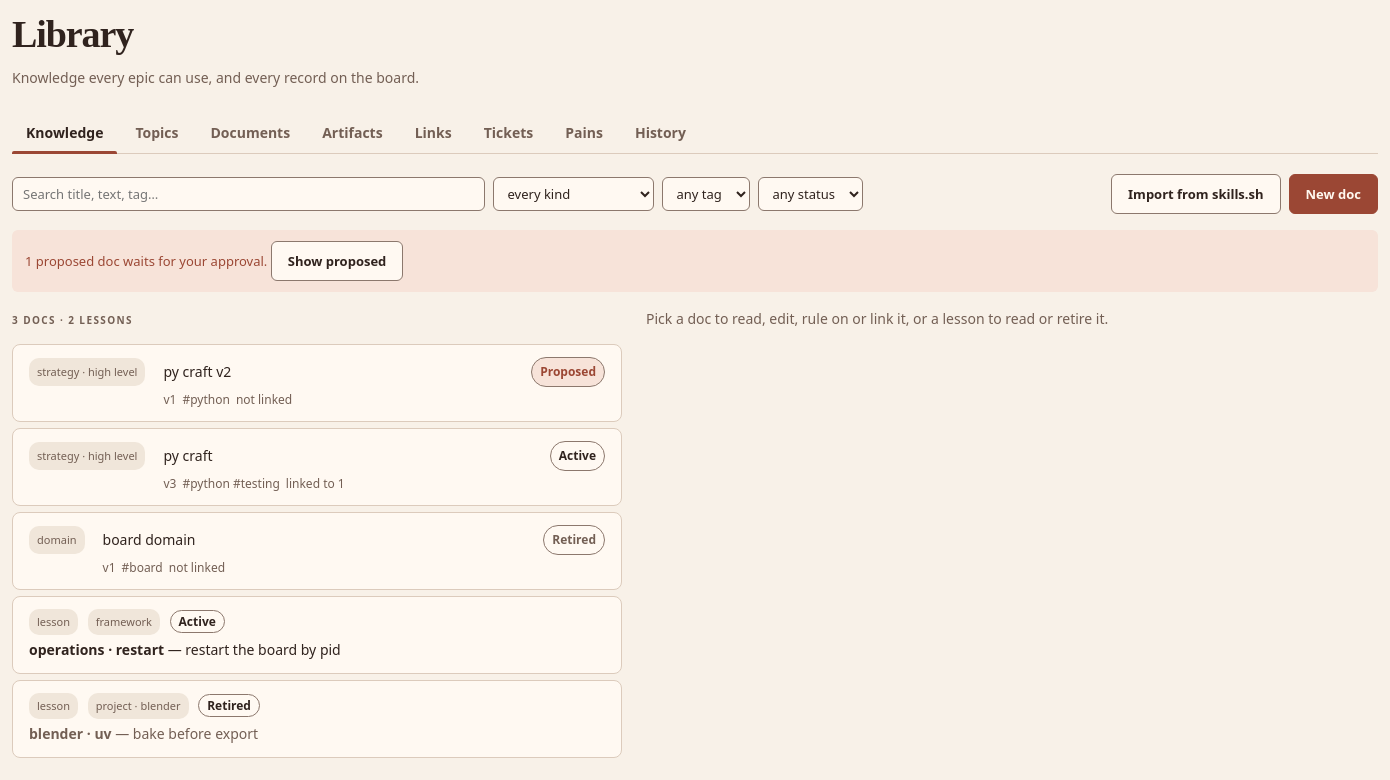
Library knowledge › shows a retired lesson's reason and no Retire action; a non-owner never gets one
The image size is (1390, 780).
Click the 2nd button with test id "knowledge-lesson-open".
click(54, 706)  # box x1=29 y1=693 x2=605 y2=745
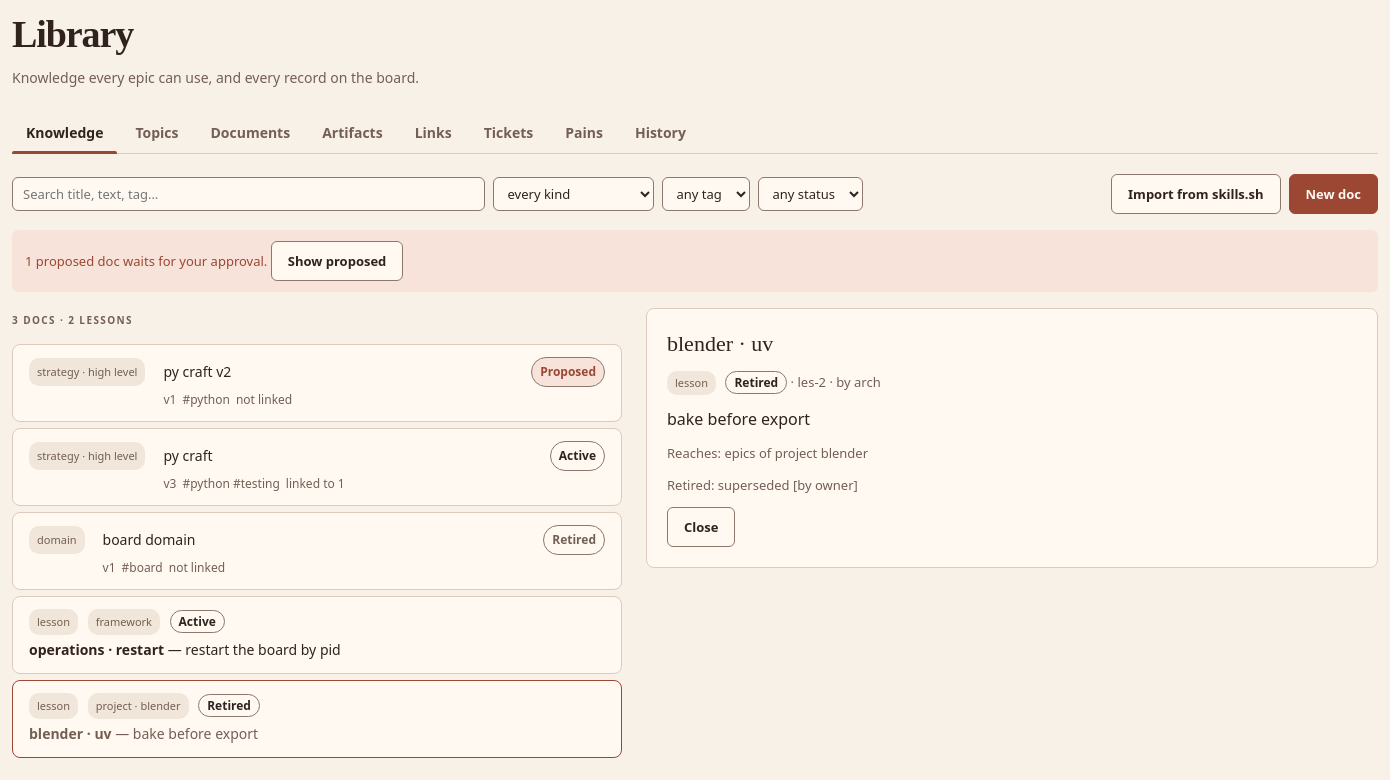
Expected: the text with test id "lesson-reason" shows "superseded", x1=718 y1=476 x2=858 y2=494
Expected: the text with test id "lesson-scope" shows "project blender", x1=724 y1=444 x2=868 y2=462
Click the 1st button with test id "knowledge-lesson-open".
click(54, 622)  # box x1=29 y1=609 x2=605 y2=661
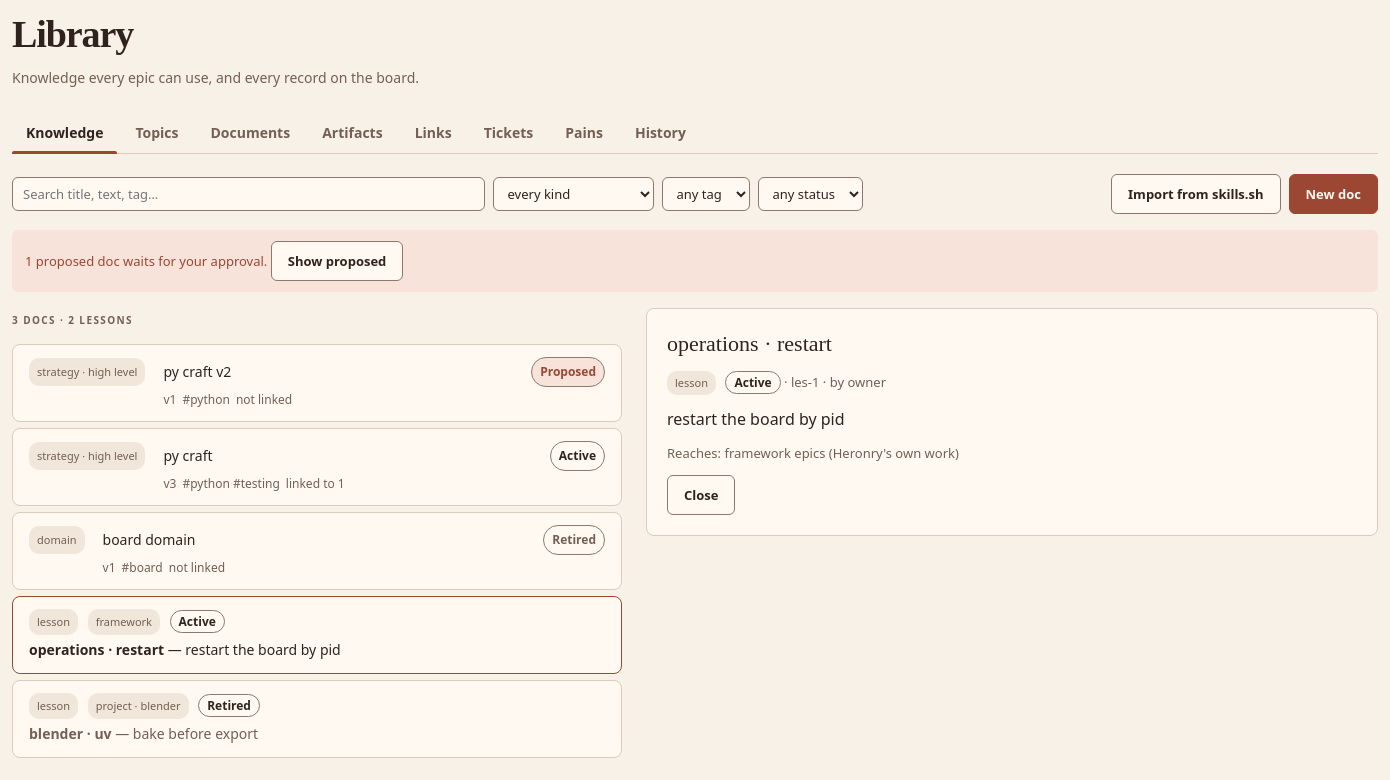
Expected: the element with test id "lesson-detail" shows "restart the board by pid", x1=667 y1=408 x2=845 y2=430
